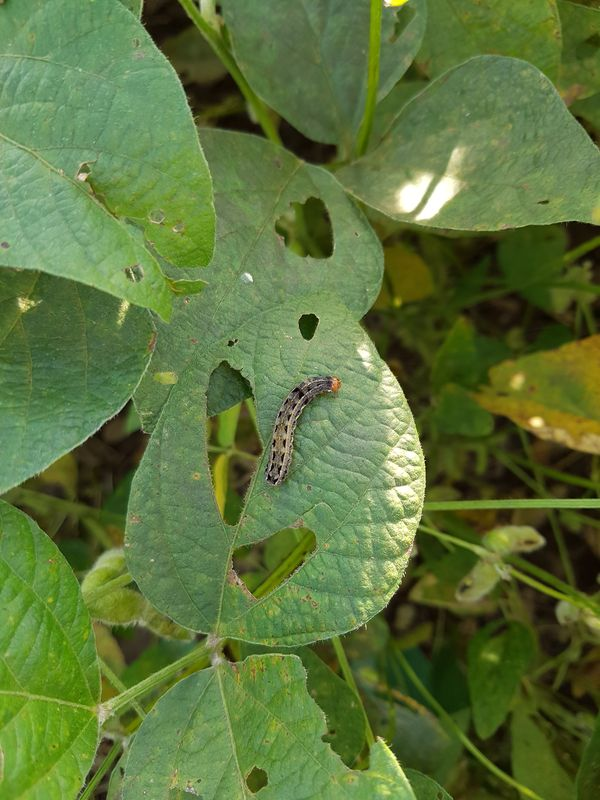Spodoptera_albula: (249, 365, 356, 492)
